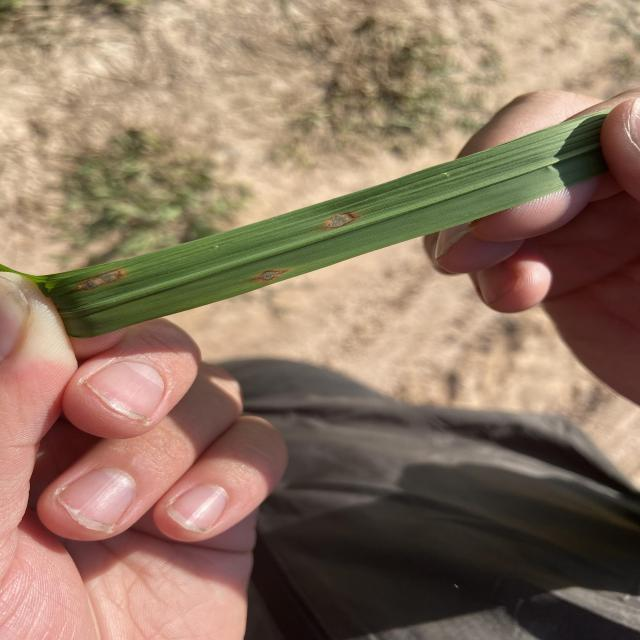Dao on: (80, 269, 123, 289), (329, 213, 354, 227), (255, 270, 286, 280)
